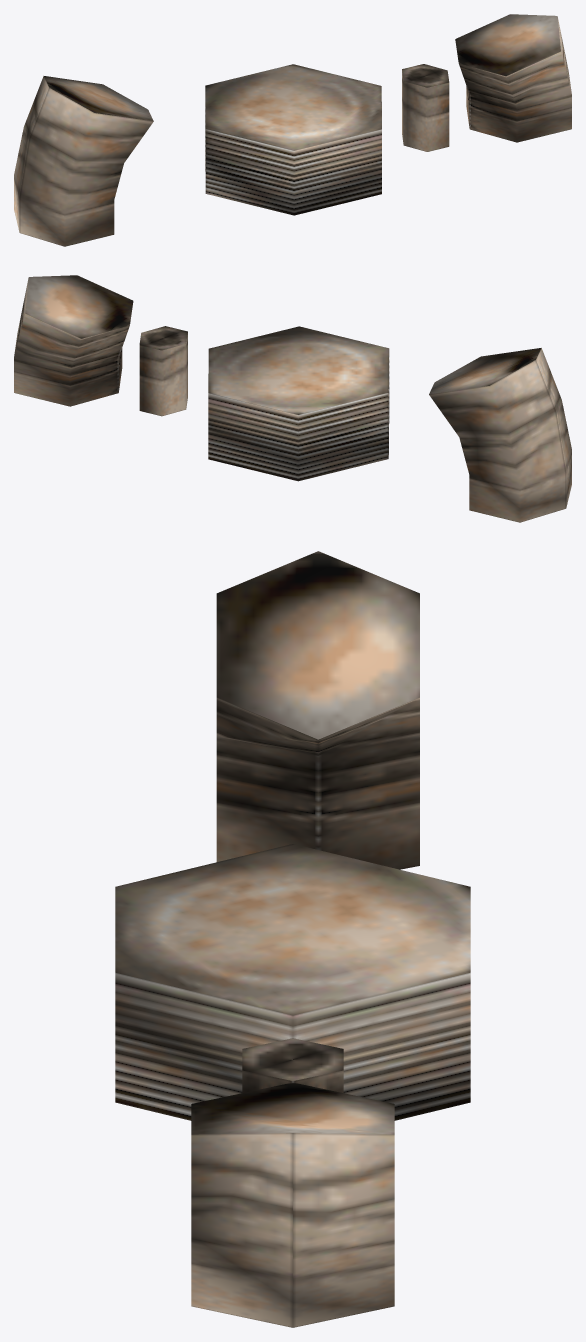
File: Dirty Dishes.obj
3 views of the same model, one above another, from view 1: azimuth 30°, elevation 25°; view 2: azimuth 150°, elevation 25°; view 3: azimuth 270°, elevation 25° (orthographic). The views are drawn at different scales.
Parts seen in each view (by area): view 1: Dirty Dishes; view 2: Dirty Dishes; view 3: Dirty Dishes.
Part boxes in pixels (<box>): Dirty Dishes: <box>14,14,571,246</box>; Dirty Dishes: <box>14,275,571,522</box>; Dirty Dishes: <box>115,551,470,1327</box>.
Bounding box in the file's own units: 4.19 × 1.02 × 1.19.
